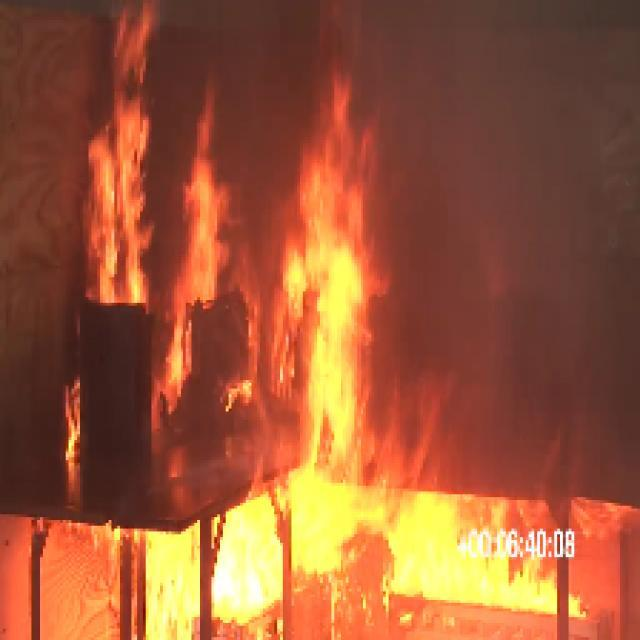Fire: (147, 497, 536, 615), (292, 188, 364, 454), (94, 128, 154, 301)
